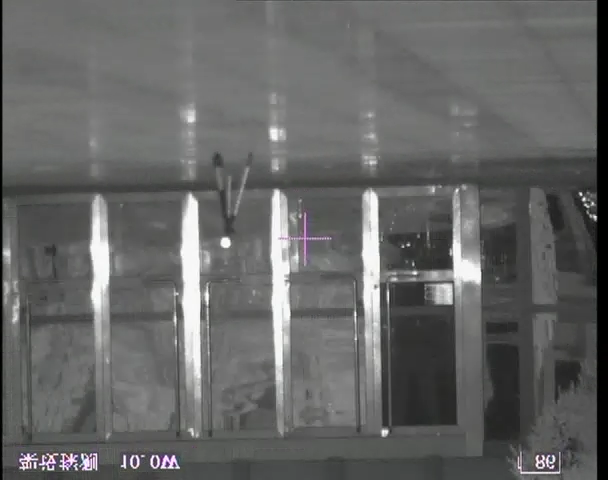my: (217, 236, 231, 250)
